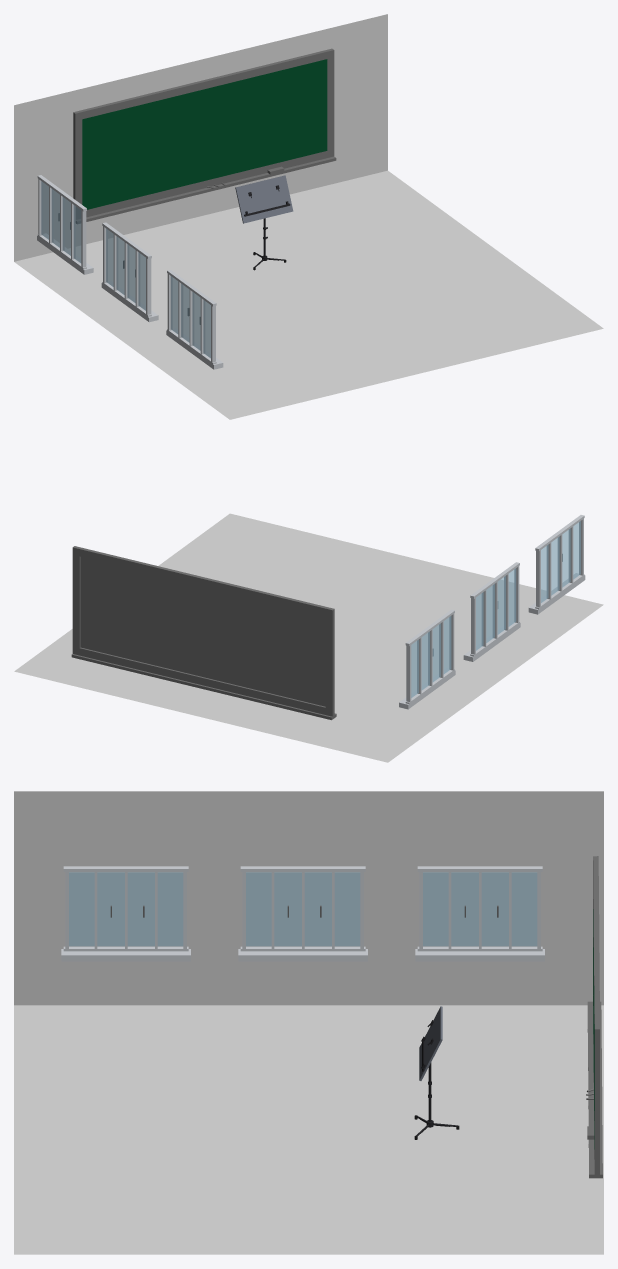
Rendered from RoomA.glb.
3 views of the same model, one above another, from view 1: azimuth 30°, elevation 25°; view 2: azimuth 150°, elevation 25°; view 3: azimuth 270°, elevation 25° (orthographic). The views are drawn at different scales.
Visible parts, largest first — view 1: room, Blackboard_Surface, Handle_Right, Handle_Right.001, Handle_Right.002, Music Stand Sheet Plate; view 2: room, Blackboard_Surface, Handle_Right.001, Handle_Right.002, Handle_Right; view 3: room, Handle_Right, Handle_Right.001, Handle_Right.002, Blackboard_Surface, Music Stand Sheet Plate.
Boxes of the visible parts, x1,y1,x2,y2 form: room: (14,14,603,419); Blackboard_Surface: (73,48,336,223); Handle_Right: (166,270,223,369); Handle_Right.001: (101,222,158,322); Handle_Right.002: (37,175,93,274); Music Stand Sheet Plate: (235,175,293,270); room: (14,513,603,762); Blackboard_Surface: (71,546,336,720); Handle_Right.001: (463,562,520,661); Handle_Right.002: (399,609,455,709); Handle_Right: (528,515,585,614); room: (14,791,603,1254); Handle_Right: (61,866,190,961); Handle_Right.001: (238,866,367,961); Handle_Right.002: (415,866,544,961); Blackboard_Surface: (586,856,602,1178); Music Stand Sheet Plate: (414,1006,459,1139).
Bounding box in the file's own units: 10 × 4 × 10.
